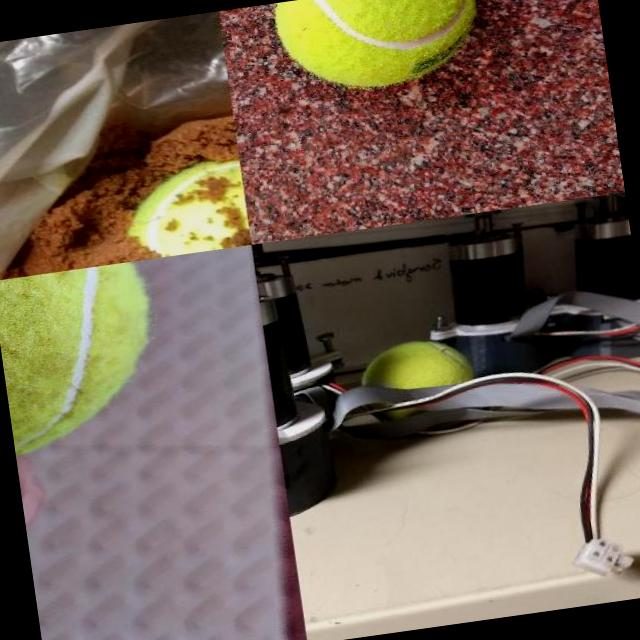Tennis Ball: (0, 259, 172, 462), (271, 0, 487, 99), (116, 155, 250, 261), (358, 334, 473, 386)
